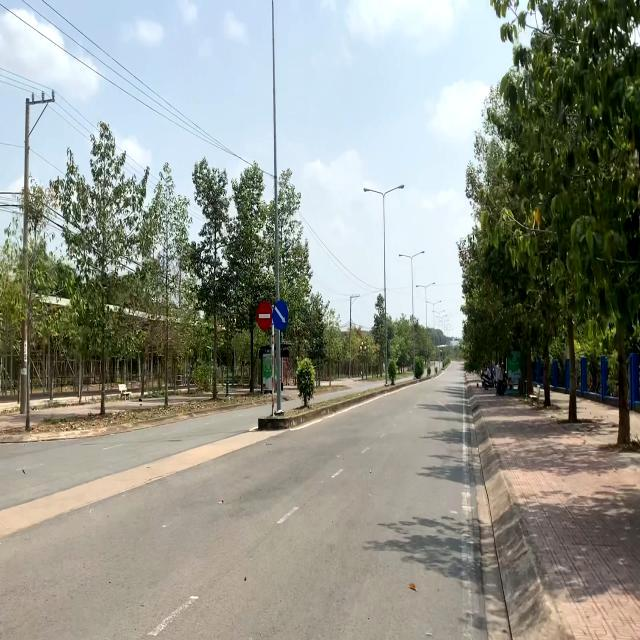Cam di nguoc chieu: (255, 302, 272, 332)
Vong chuong ngai vat sang phai: (272, 300, 288, 330)
